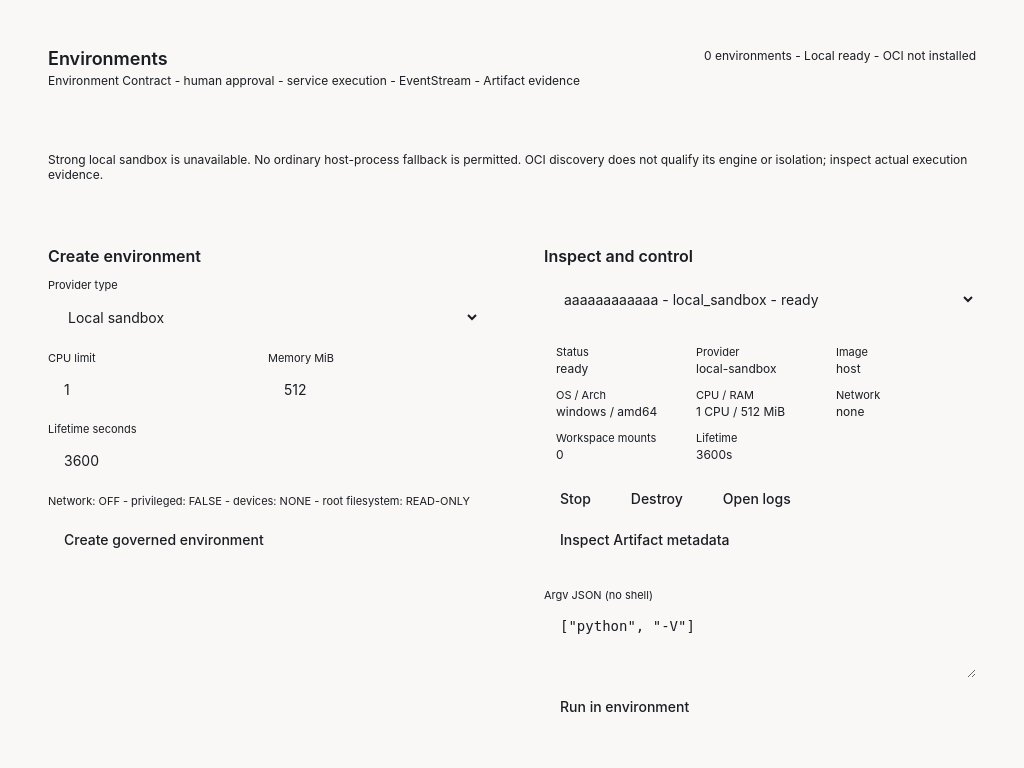
Test: environment inspector › does not retry a command when its response is lost
Step 1. Click the button "Run in environment" → coordinates (625, 706), box [544, 690, 705, 723]
(page scrolled)
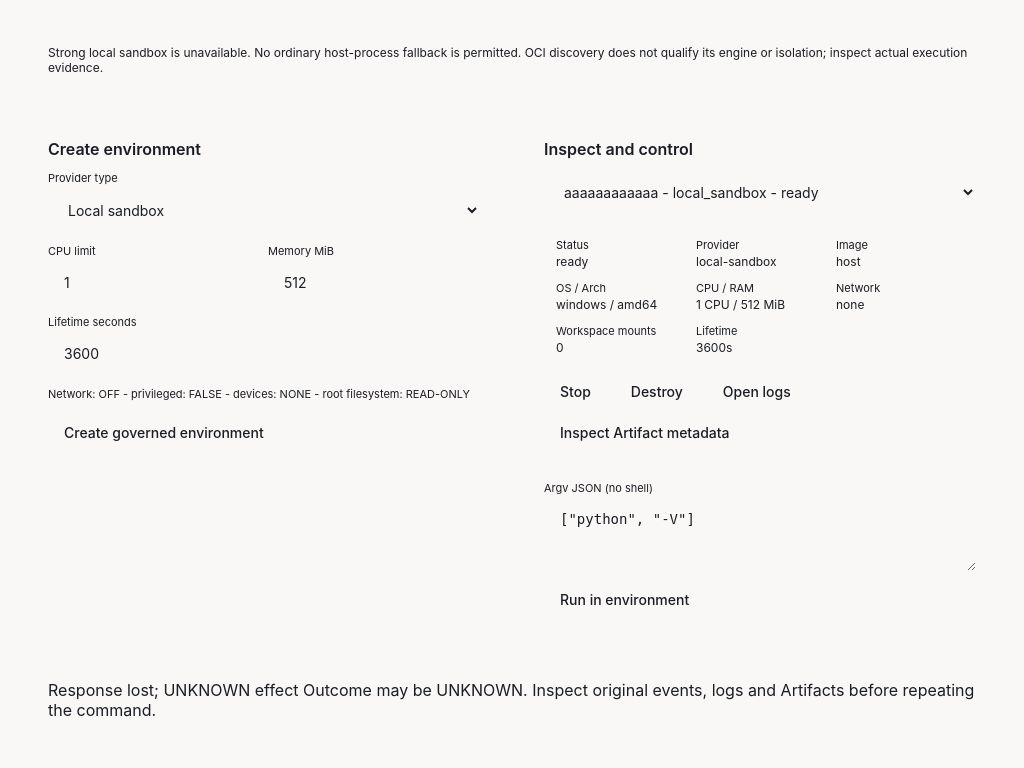
Check: the text "Response lost; UNKNOWN effect" is shown, box [48, 680, 974, 720]
